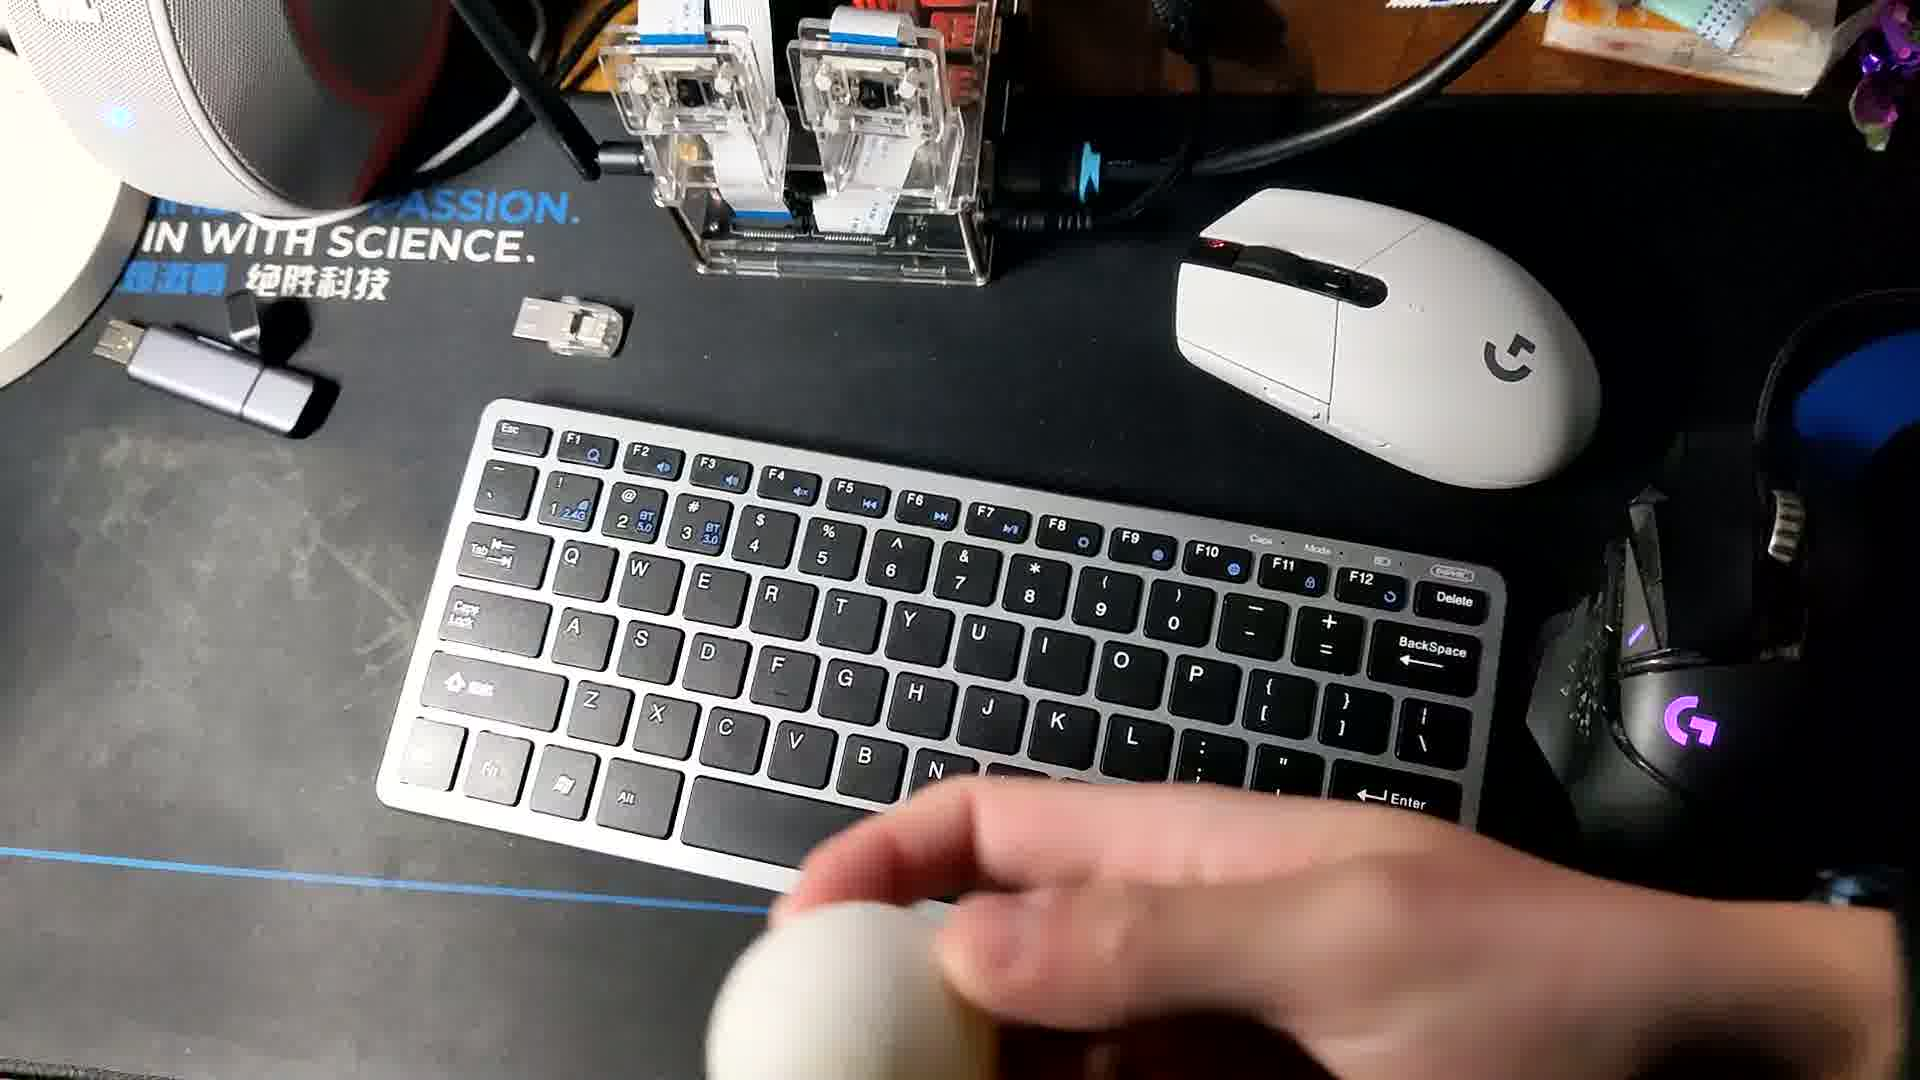Ball: (705, 895, 992, 1080)
